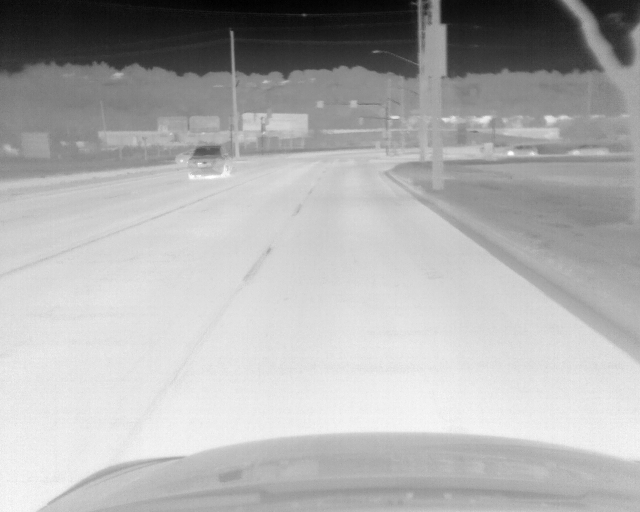car: (187, 144, 232, 179), (569, 142, 611, 154), (506, 145, 538, 156), (173, 149, 193, 162)
